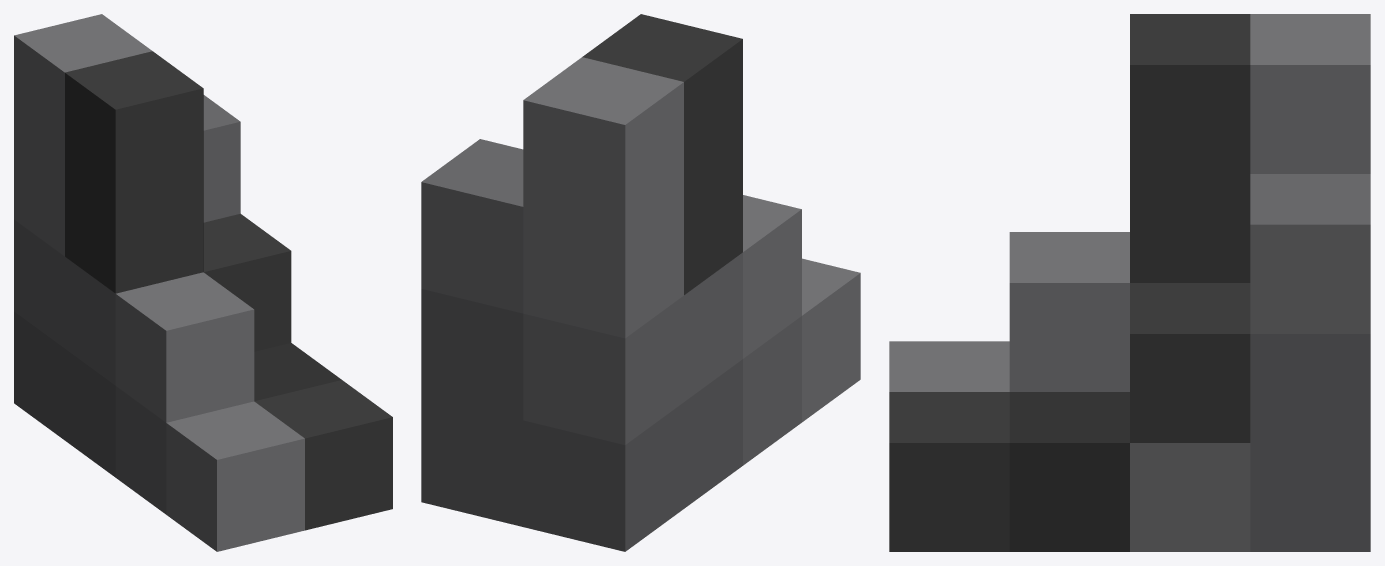
Rendered from johnnyLegRight.obj.
The picture shows the model from 3 angles, left to right: view 1: azimuth 30°, elevation 25°; view 2: azimuth 150°, elevation 25°; view 3: azimuth 270°, elevation 25°; orthographic projection. The views are drawn at different scales.
Visible parts, largest first — view 1: johnnyLegRight; view 2: johnnyLegRight; view 3: johnnyLegRight.
Part boxes in pixels (x1,y1,x2,y2): johnnyLegRight: (14,14,392,551); johnnyLegRight: (421,14,860,551); johnnyLegRight: (889,14,1370,551).
Size of the model in its own units: 2 by 4 by 4.
Materials: 1 (1 with a texture image).
